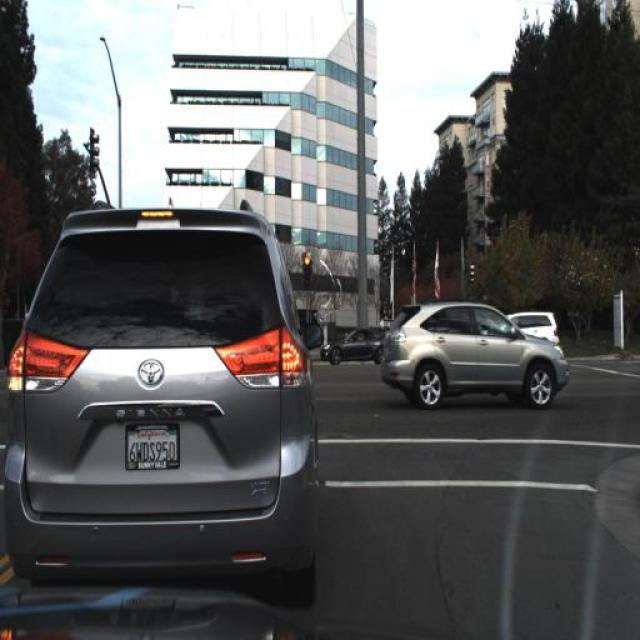car: (2, 192, 332, 607), (381, 302, 570, 413), (506, 300, 566, 364), (322, 325, 393, 366)
trafficLight-RedLeft: (300, 245, 314, 290)
